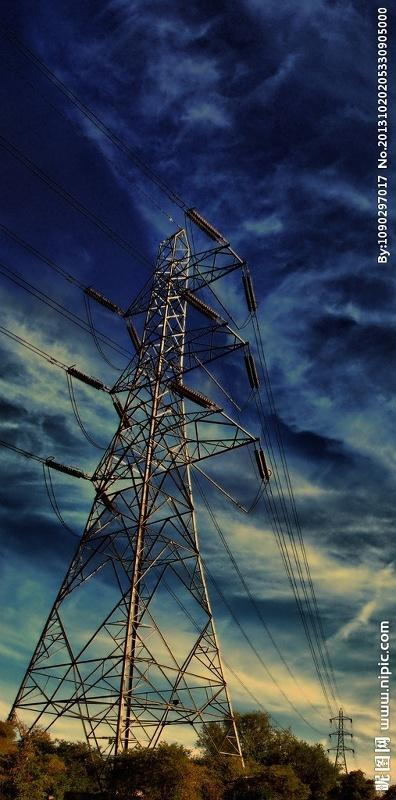power_tower: (19, 231, 294, 751), (315, 703, 362, 774)
